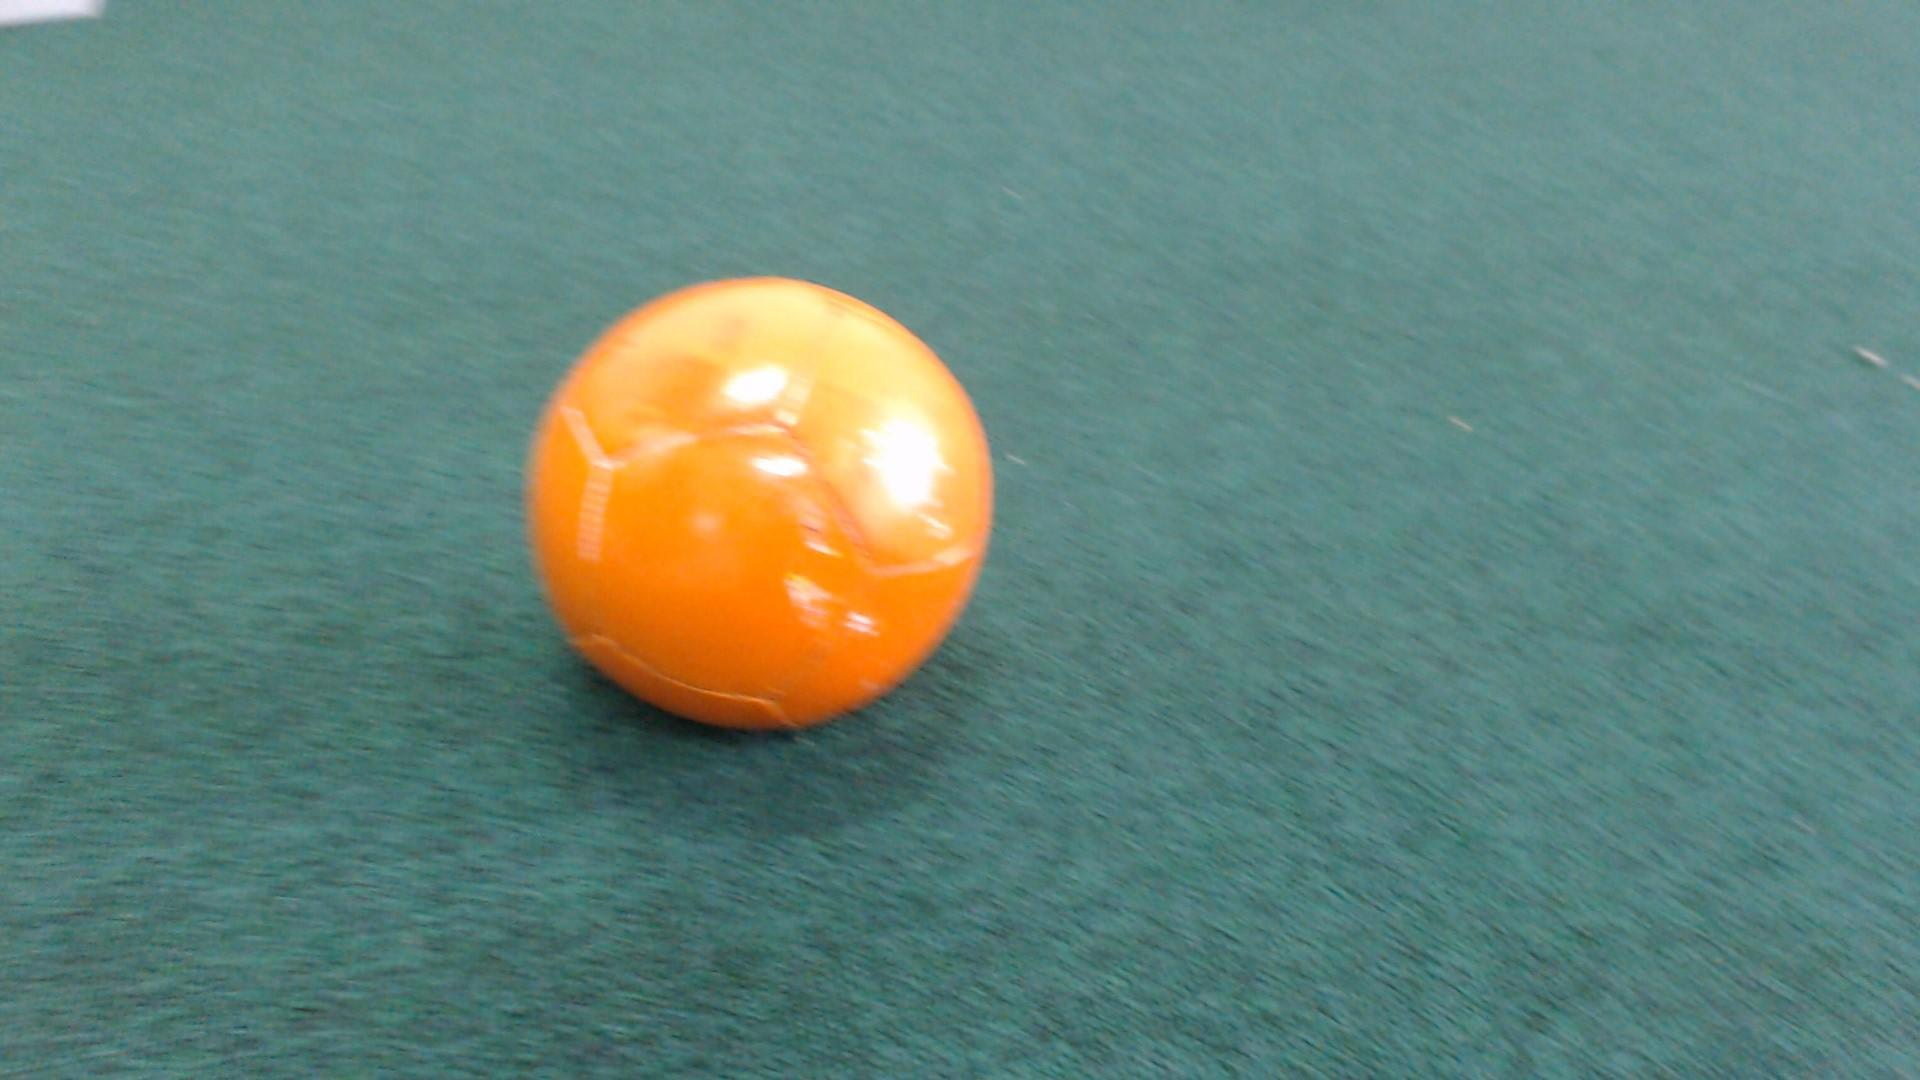bola: (501, 219, 1044, 808)
